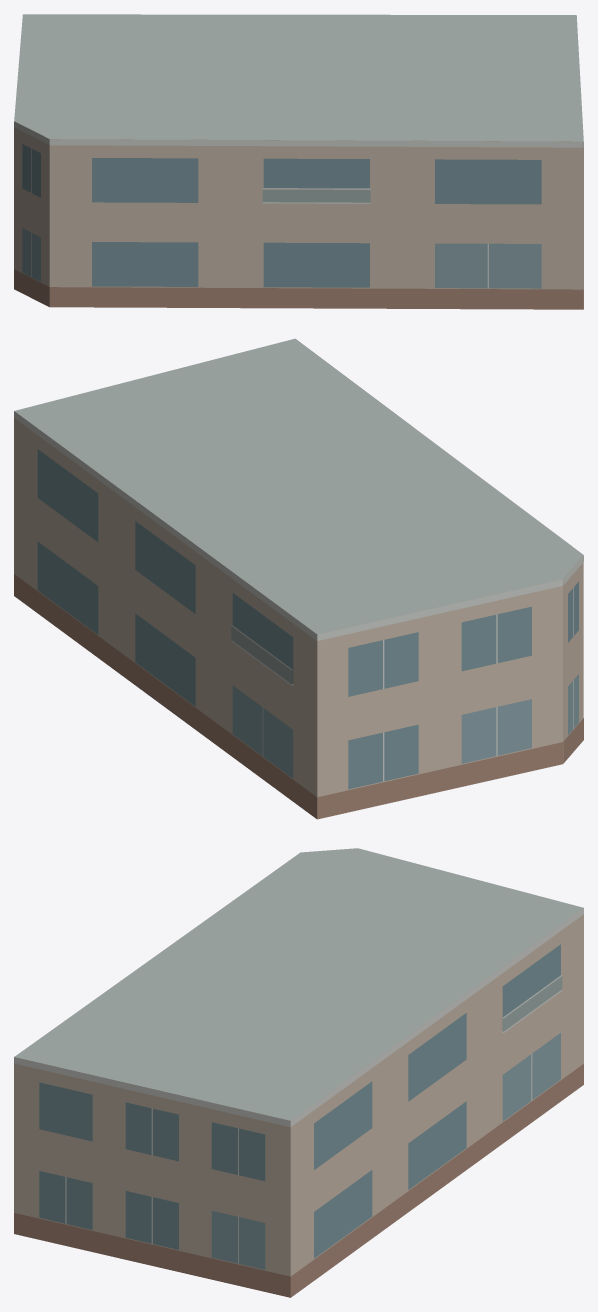
The model's file is survey-upis-32468262.glb.
3 renders of one model, top to bottom at view 1: azimuth 30°, elevation 25°; view 2: azimuth 150°, elevation 25°; view 3: azimuth 270°, elevation 25°, orthographic. The views are drawn at different scales.
Visible parts, largest first — view 1: survey-upis-32468262.tmp; view 2: survey-upis-32468262.tmp; view 3: survey-upis-32468262.tmp.
Boxes of the visible parts, box(x1,y1,x2,y2) form: survey-upis-32468262.tmp: box(14, 14, 583, 309); survey-upis-32468262.tmp: box(14, 338, 583, 819); survey-upis-32468262.tmp: box(14, 848, 583, 1297).
Bounding box in the file's own units: 22.15 × 6.7 × 19.56.
